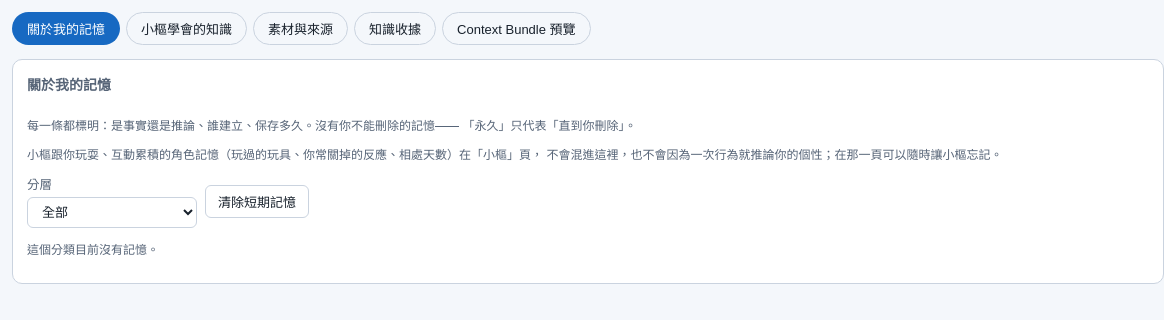
it: memory-ui-005：按鈕失敗要看得見 › 清除短期記憶：後端說清不乾淨，畫面就要說
Step 1. Click the button "清除短期記憶" → (257, 201), box [205,184,309,218]
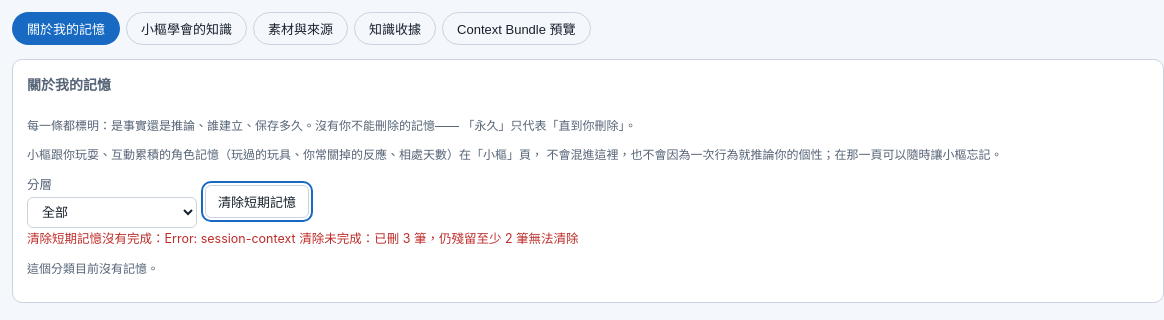
Now the message shows "清除短期記憶沒有完成", box [27,231,578,246]
Now the message shows "仍殘留至少 2 筆", box [27,231,578,246]
